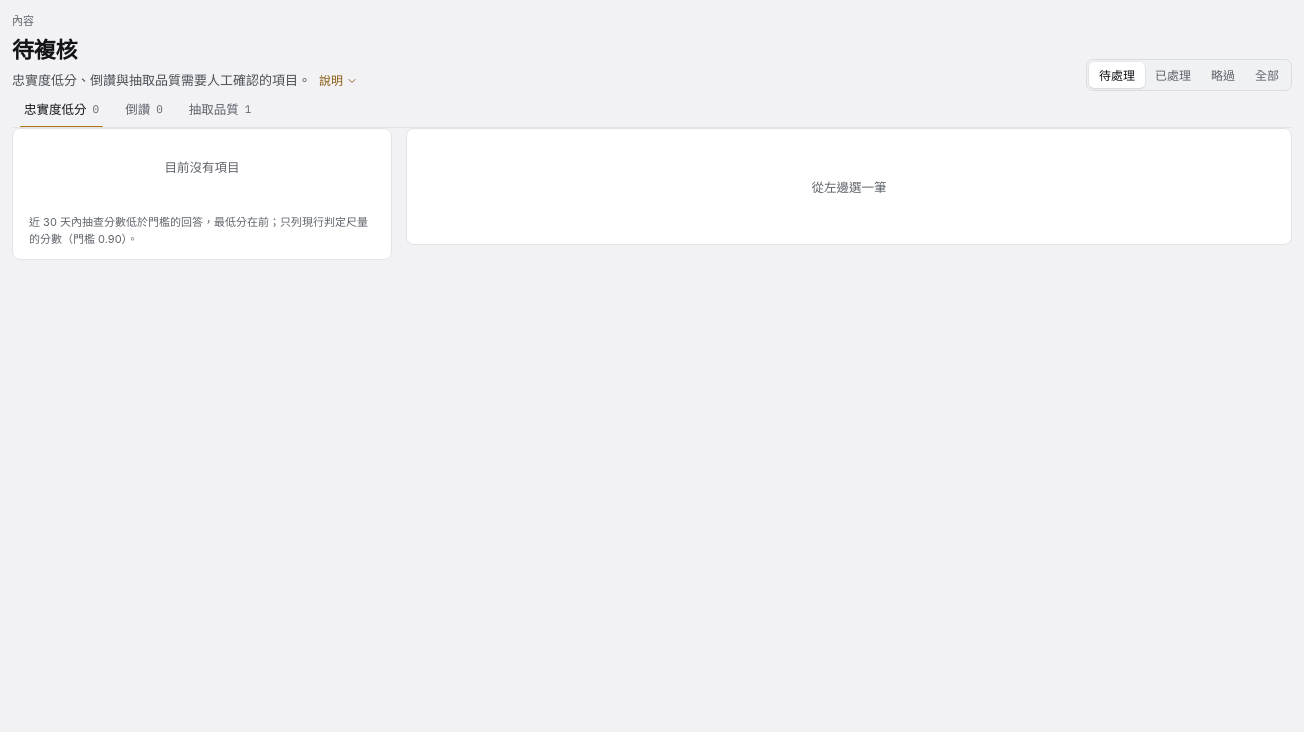
Test: 切到抽取品質：以 kind=extraction 重新取數，詳情連到閱讀頁、標題缺值回退檔名
Expected: the text "目前沒有項目" is shown, [164, 160, 240, 175]
Click the tab "抽取品質 1".
click(220, 109)  # box [177, 91, 263, 127]
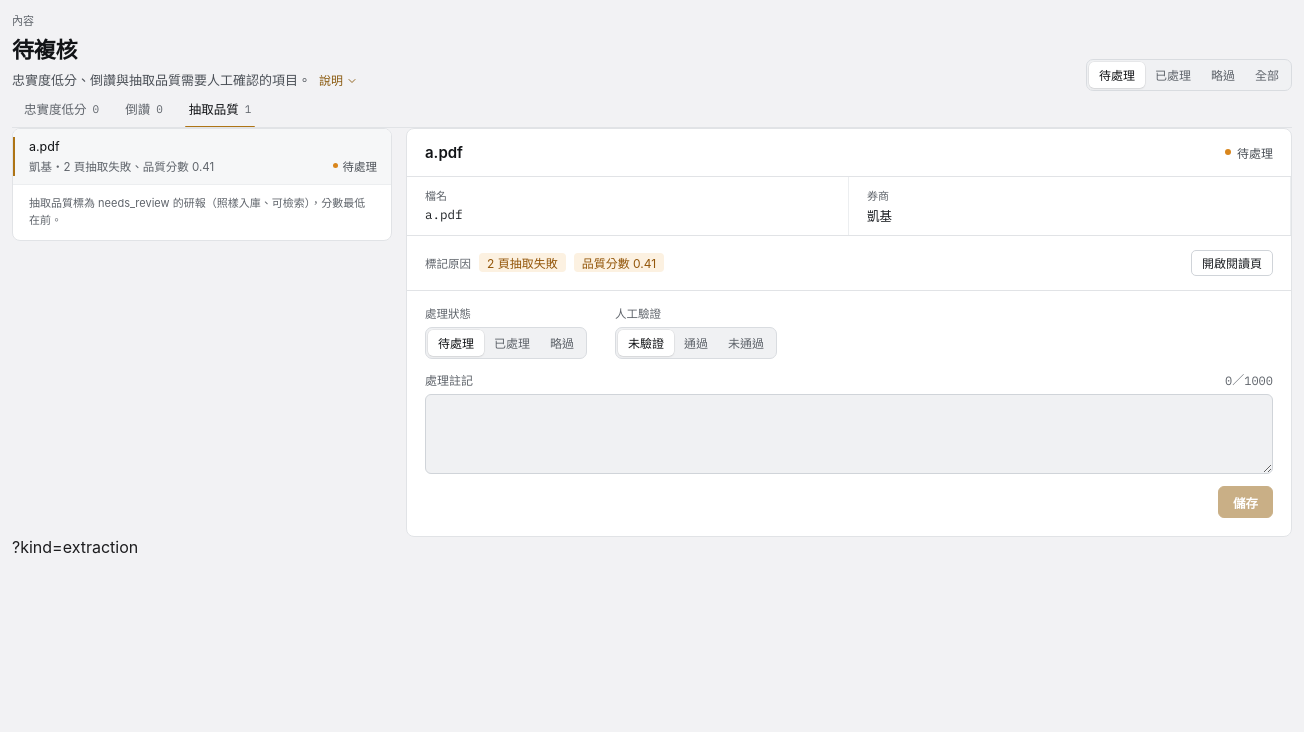
Result: the text "凱基・2 頁抽取失敗、品質分數 0.41" is shown at [29, 160, 214, 174]
Result: the heading "a.pdf" is shown at [425, 143, 463, 162]
Result: the text "品質分數 0.41" is shown at [574, 253, 664, 272]
